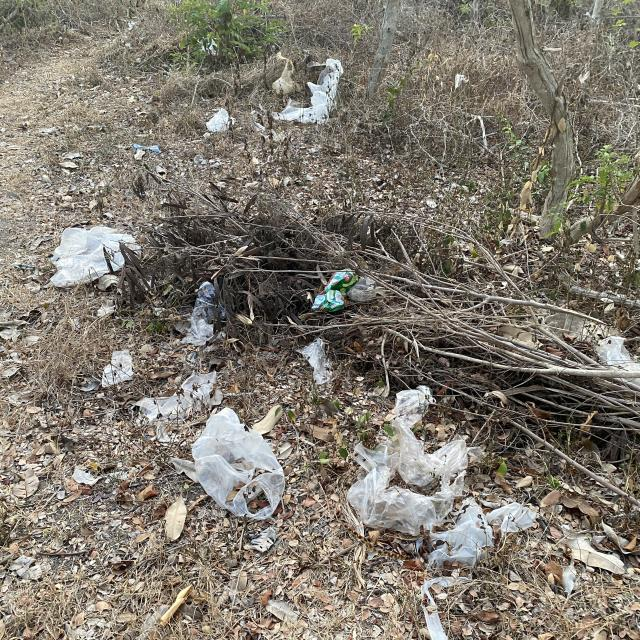Single-layer Plastic: (348, 386, 480, 535), (192, 408, 285, 520), (429, 498, 535, 568), (51, 226, 139, 288), (272, 59, 344, 124), (50, 228, 109, 288), (206, 109, 235, 132)
